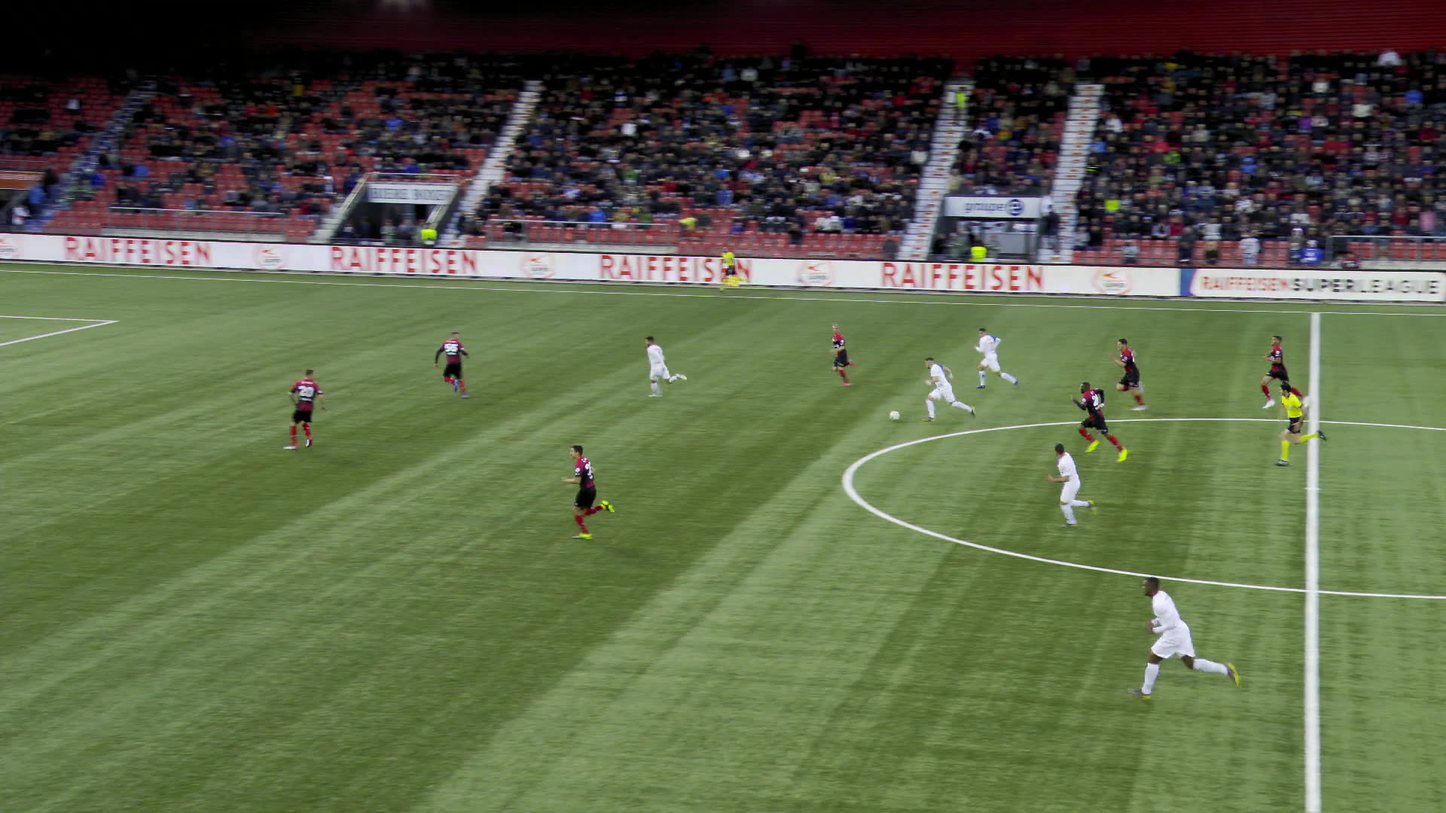ball: (886, 409, 895, 418)
player: (1139, 576, 1225, 708), (556, 443, 625, 537), (1039, 441, 1104, 524), (272, 369, 319, 449), (1106, 336, 1158, 408), (917, 358, 966, 425), (639, 334, 688, 398), (1075, 384, 1116, 460), (818, 322, 866, 385), (432, 331, 468, 399), (969, 329, 1006, 395), (1258, 336, 1289, 406)
referee: (1267, 382, 1329, 459), (713, 246, 733, 291)
